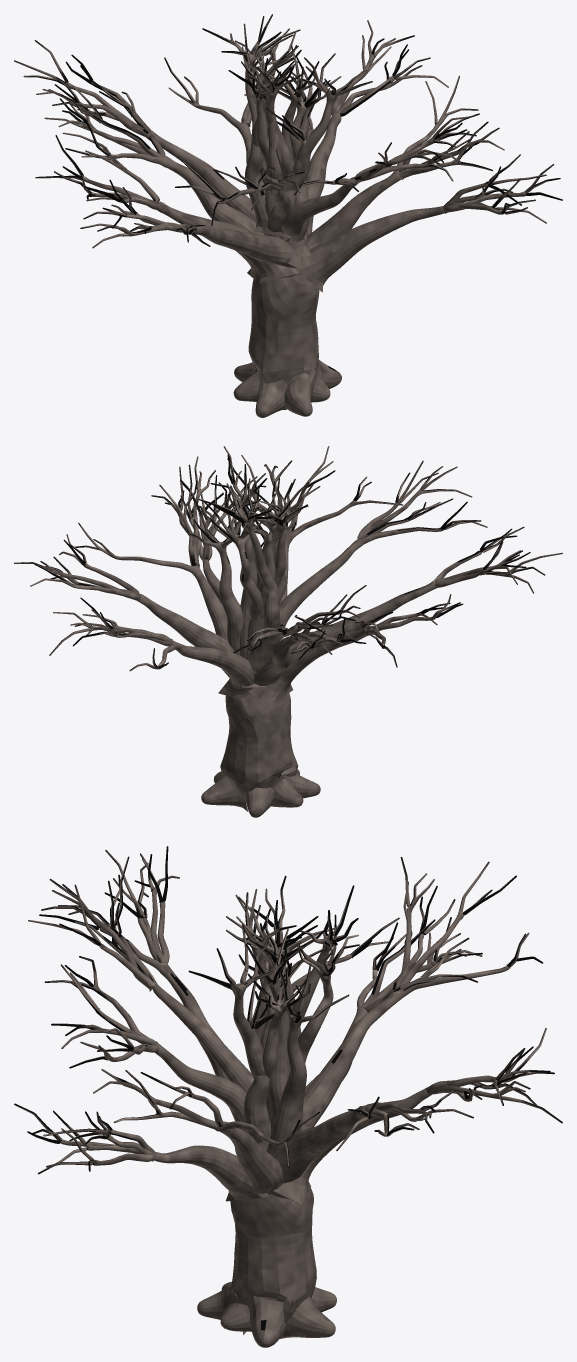
File: trunk.glb
The picture shows the model from 3 angles, top to bottom: view 1: azimuth 30°, elevation 25°; view 2: azimuth 150°, elevation 25°; view 3: azimuth 270°, elevation 25°; orthographic projection. The views are drawn at different scales.
Parts seen in each view (by area): view 1: TrunkBake; view 2: TrunkBake; view 3: TrunkBake.
Boxes of the visible parts, box(x1,y1,x2,y2) form: TrunkBake: box(14, 14, 562, 417); TrunkBake: box(14, 446, 562, 817); TrunkBake: box(14, 846, 562, 1347).
Bounding box in the file's own units: 13.81 × 10.51 × 12.27.
Materials: 1 (1 with a texture image).
